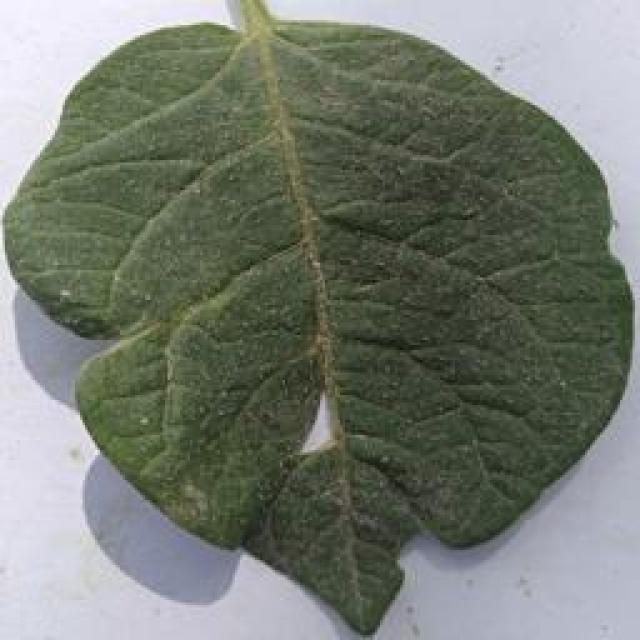Potato_Healthy: (8, 7, 635, 633)
